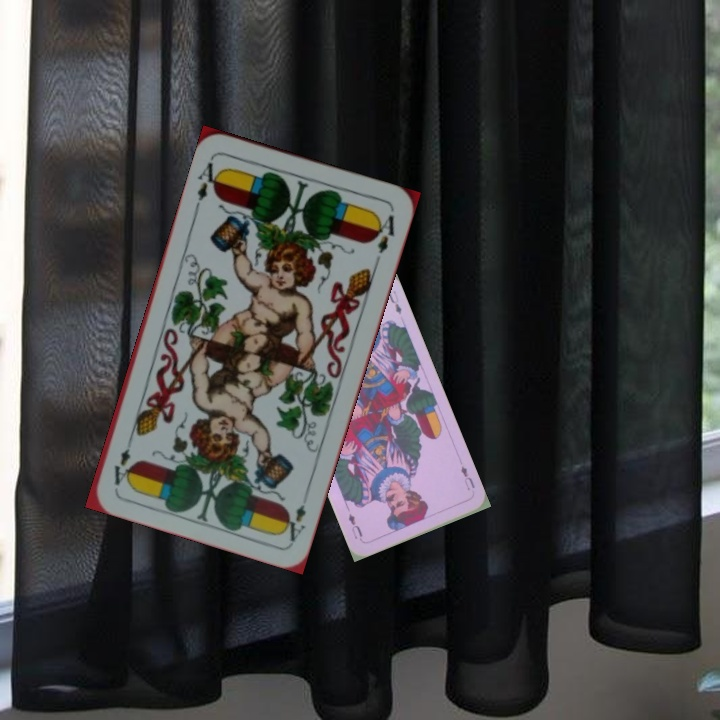EA: (191, 158, 225, 211), (278, 500, 309, 544)
EU: (457, 462, 478, 493)
